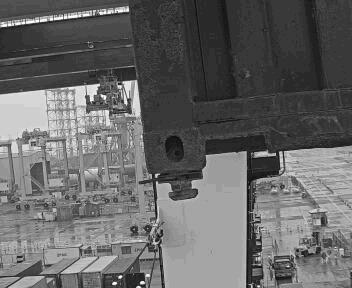twist_lock_1: (183, 165, 241, 203)
